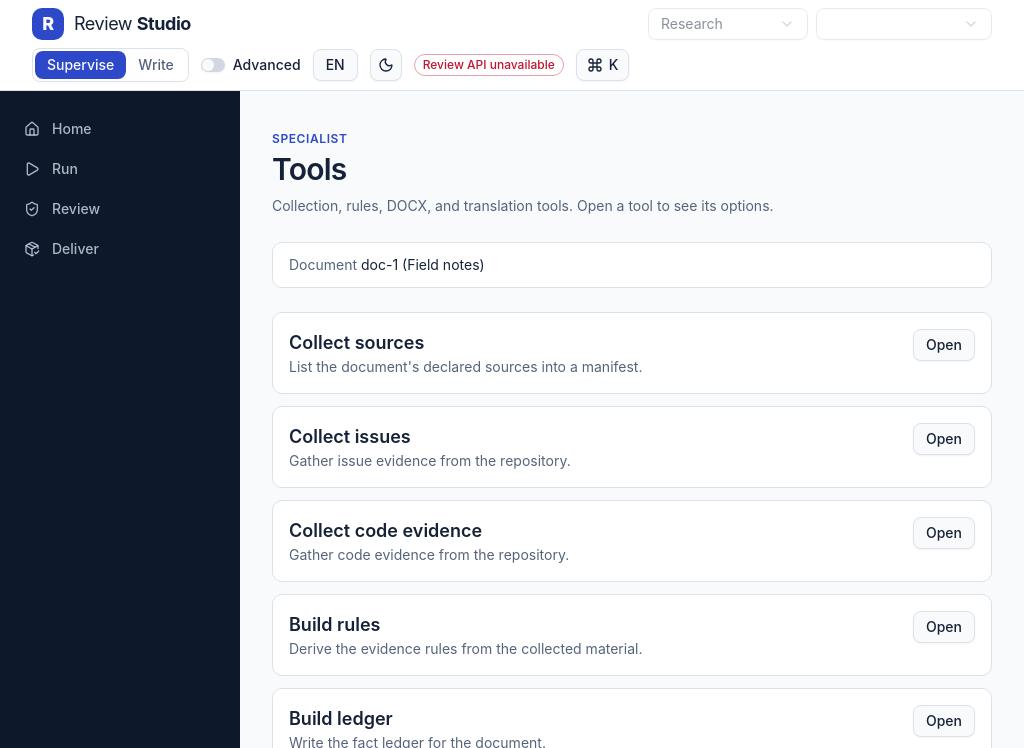
Scenario: tools area › collects code evidence and reports a degraded tool instead of success
This screenshot has width=1024, height=748.
Step 1. Click the button "Open" in the row of "Collect code evidence" → click(944, 533), box [913, 517, 975, 549]
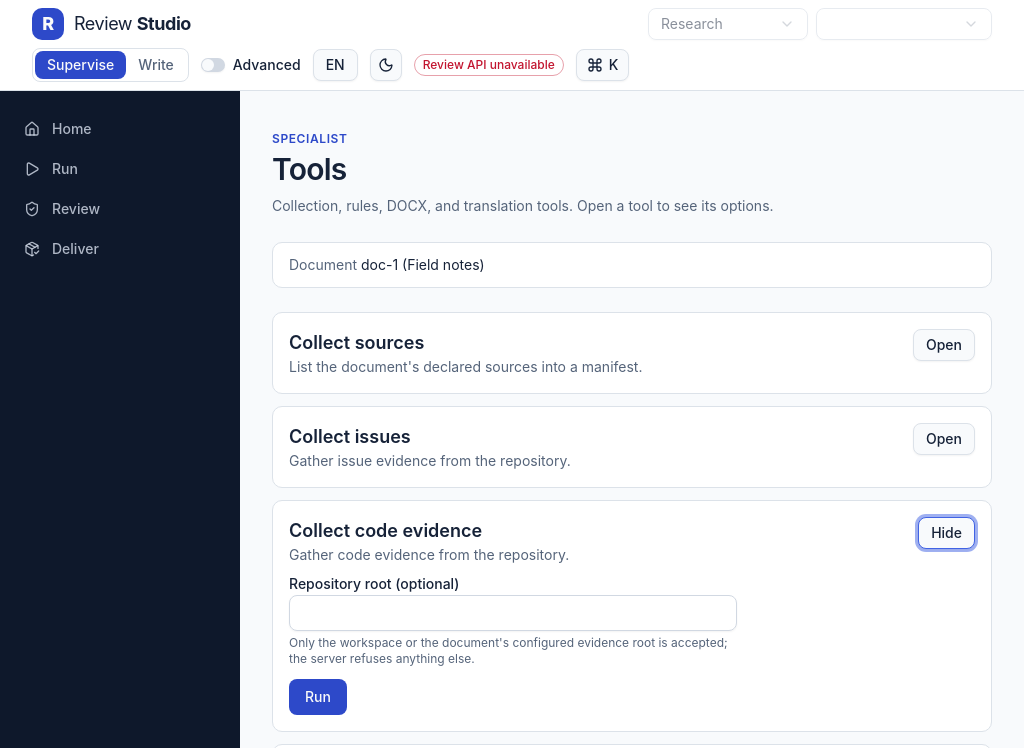
Step 2. Click the button with aria-label "Run Collect code evidence" → click(318, 697), box [289, 679, 347, 715]
(page scrolled)
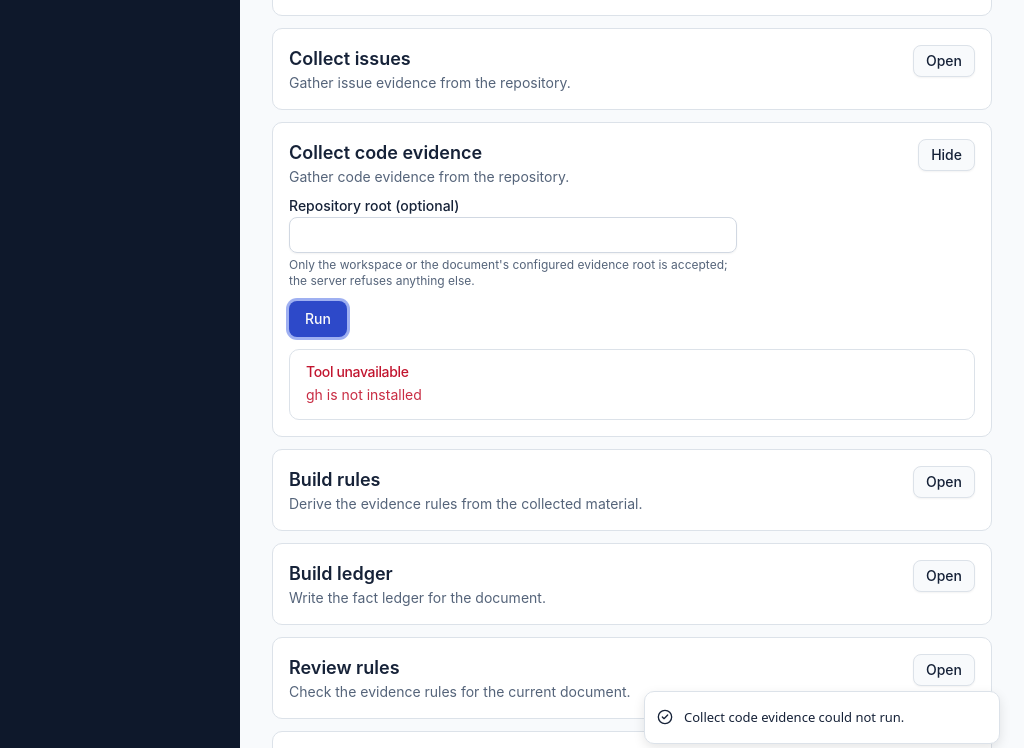
Expected: the message shows "gh is not installed", [306, 386, 422, 403]
